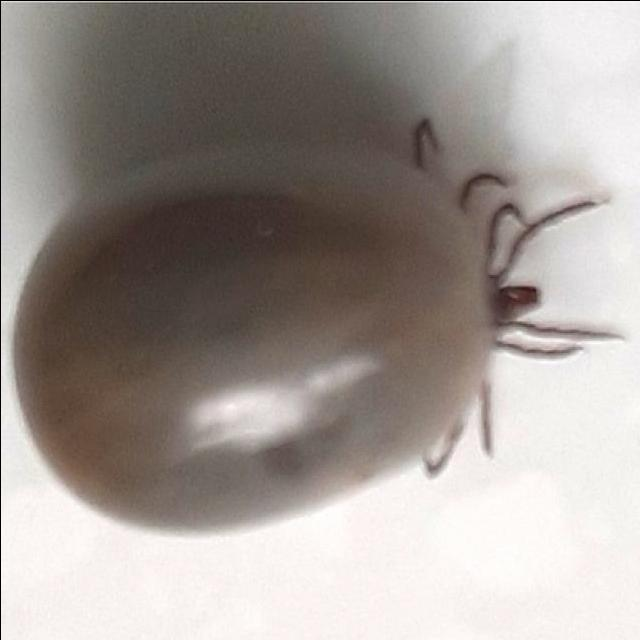Ixodes Ricinus-F-Fed: (10, 121, 612, 537)
